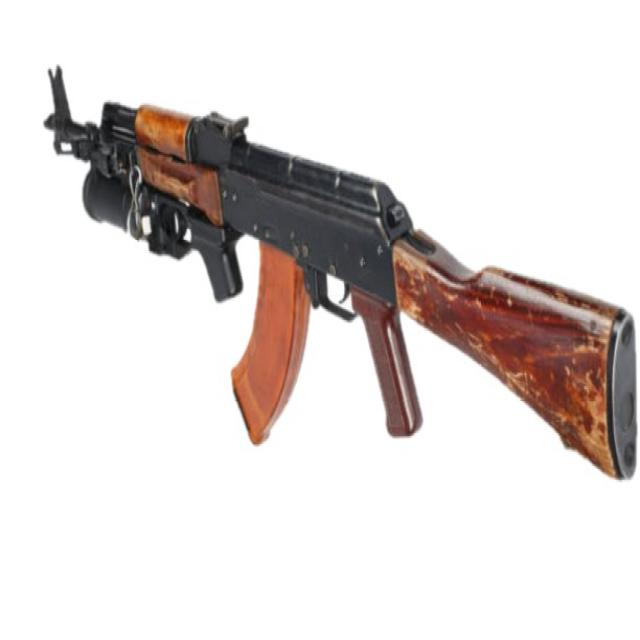rifle: (41, 55, 640, 490)
